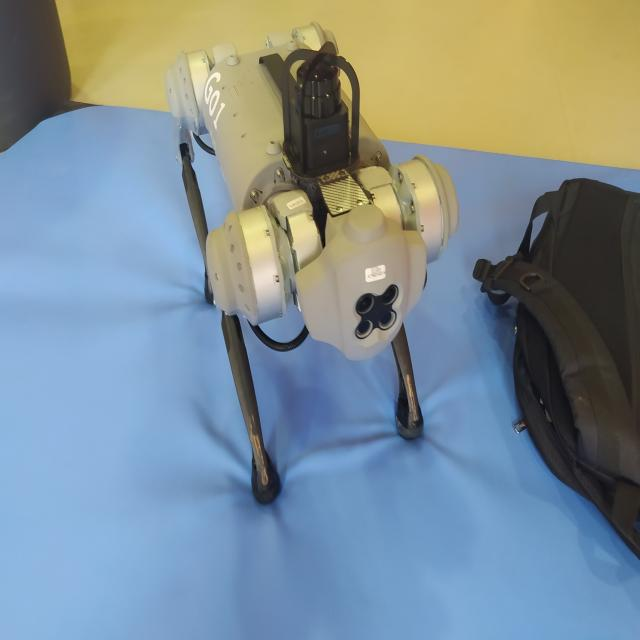unitree-go1-robot: (158, 10, 468, 529)
